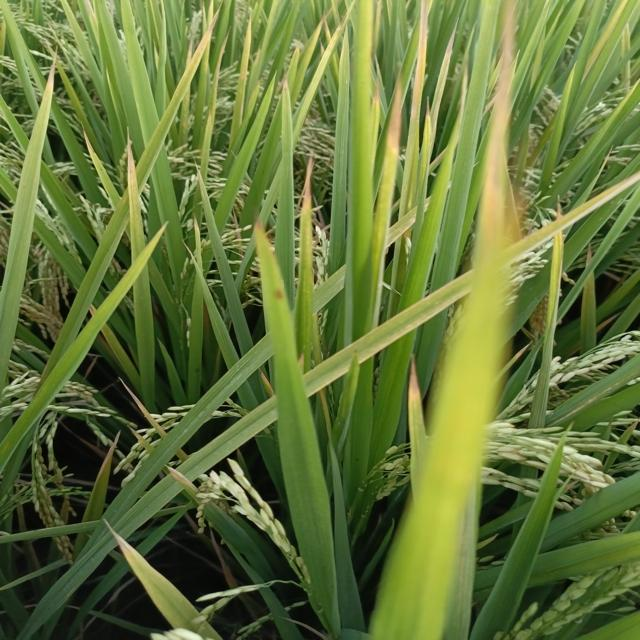Brown spot: (248, 206, 316, 312), (389, 80, 408, 164)
